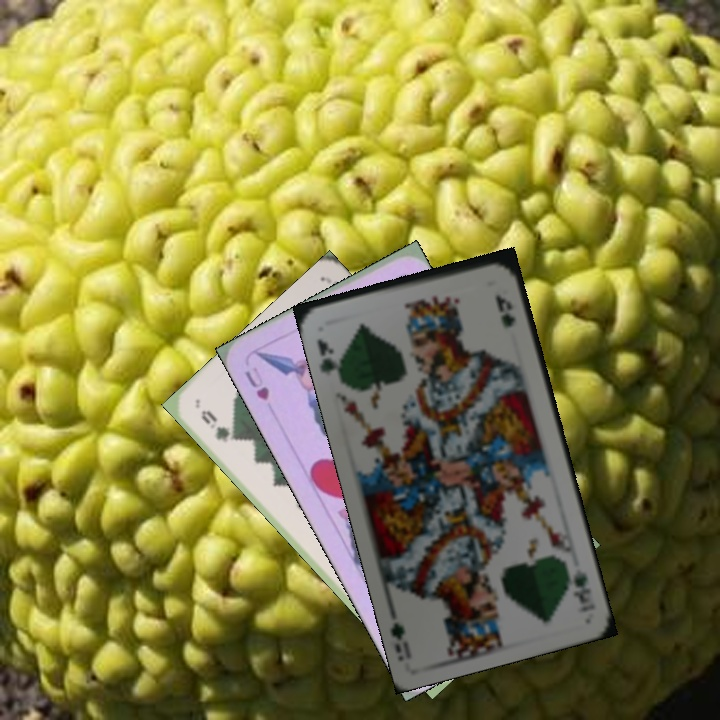G9: (197, 406, 239, 446)
GK: (313, 335, 344, 378), (569, 565, 593, 607)
HU: (241, 363, 272, 404)
